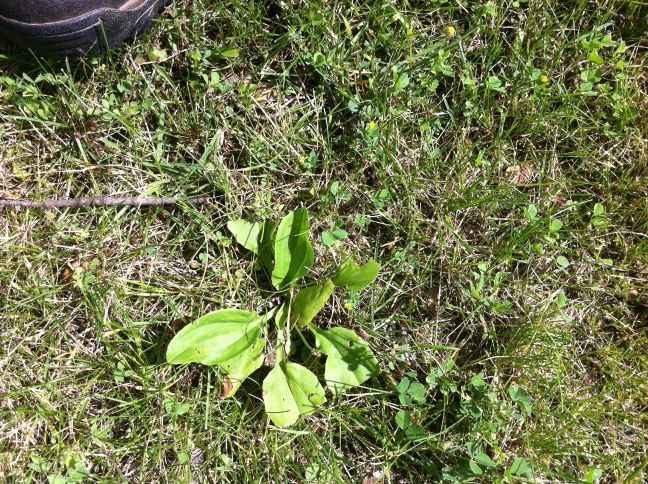weed1: (158, 201, 388, 427)
